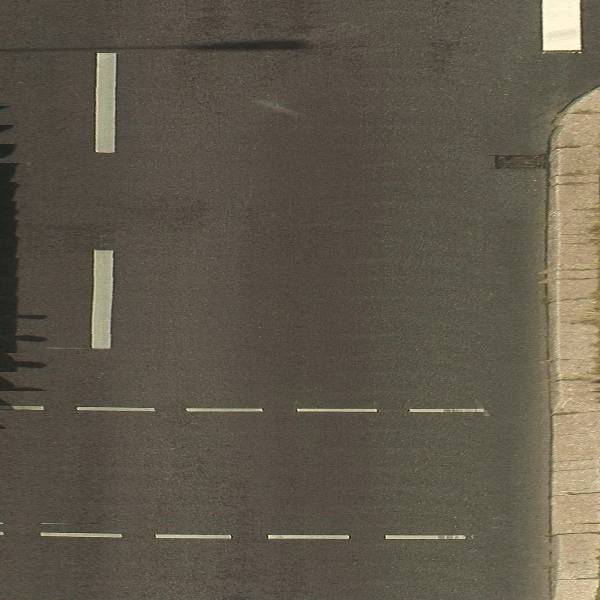road_damage: (423, 35, 456, 91)
